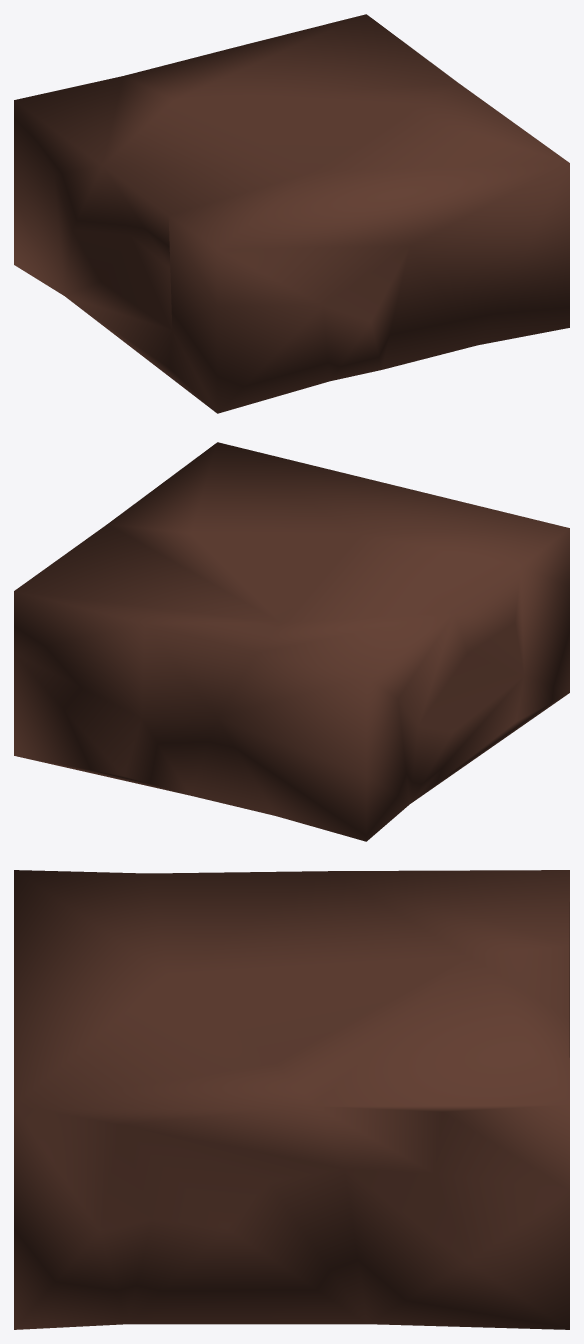
Rendered from underrock_3.glb.
3 renders of one model, top to bottom at view 1: azimuth 30°, elevation 25°; view 2: azimuth 150°, elevation 25°; view 3: azimuth 270°, elevation 25°, orthographic. The views are drawn at different scales.
Visible parts, largest first — view 1: underrock_3; view 2: underrock_3; view 3: underrock_3.
Boxes of the visible parts, <box> form: underrock_3: <box>14,14,569,413</box>; underrock_3: <box>14,442,569,841</box>; underrock_3: <box>14,870,569,1329</box>.
Size of the model in its own units: 2.8 by 1.25 by 2.8.
Materials: 1 (1 with a texture image).
